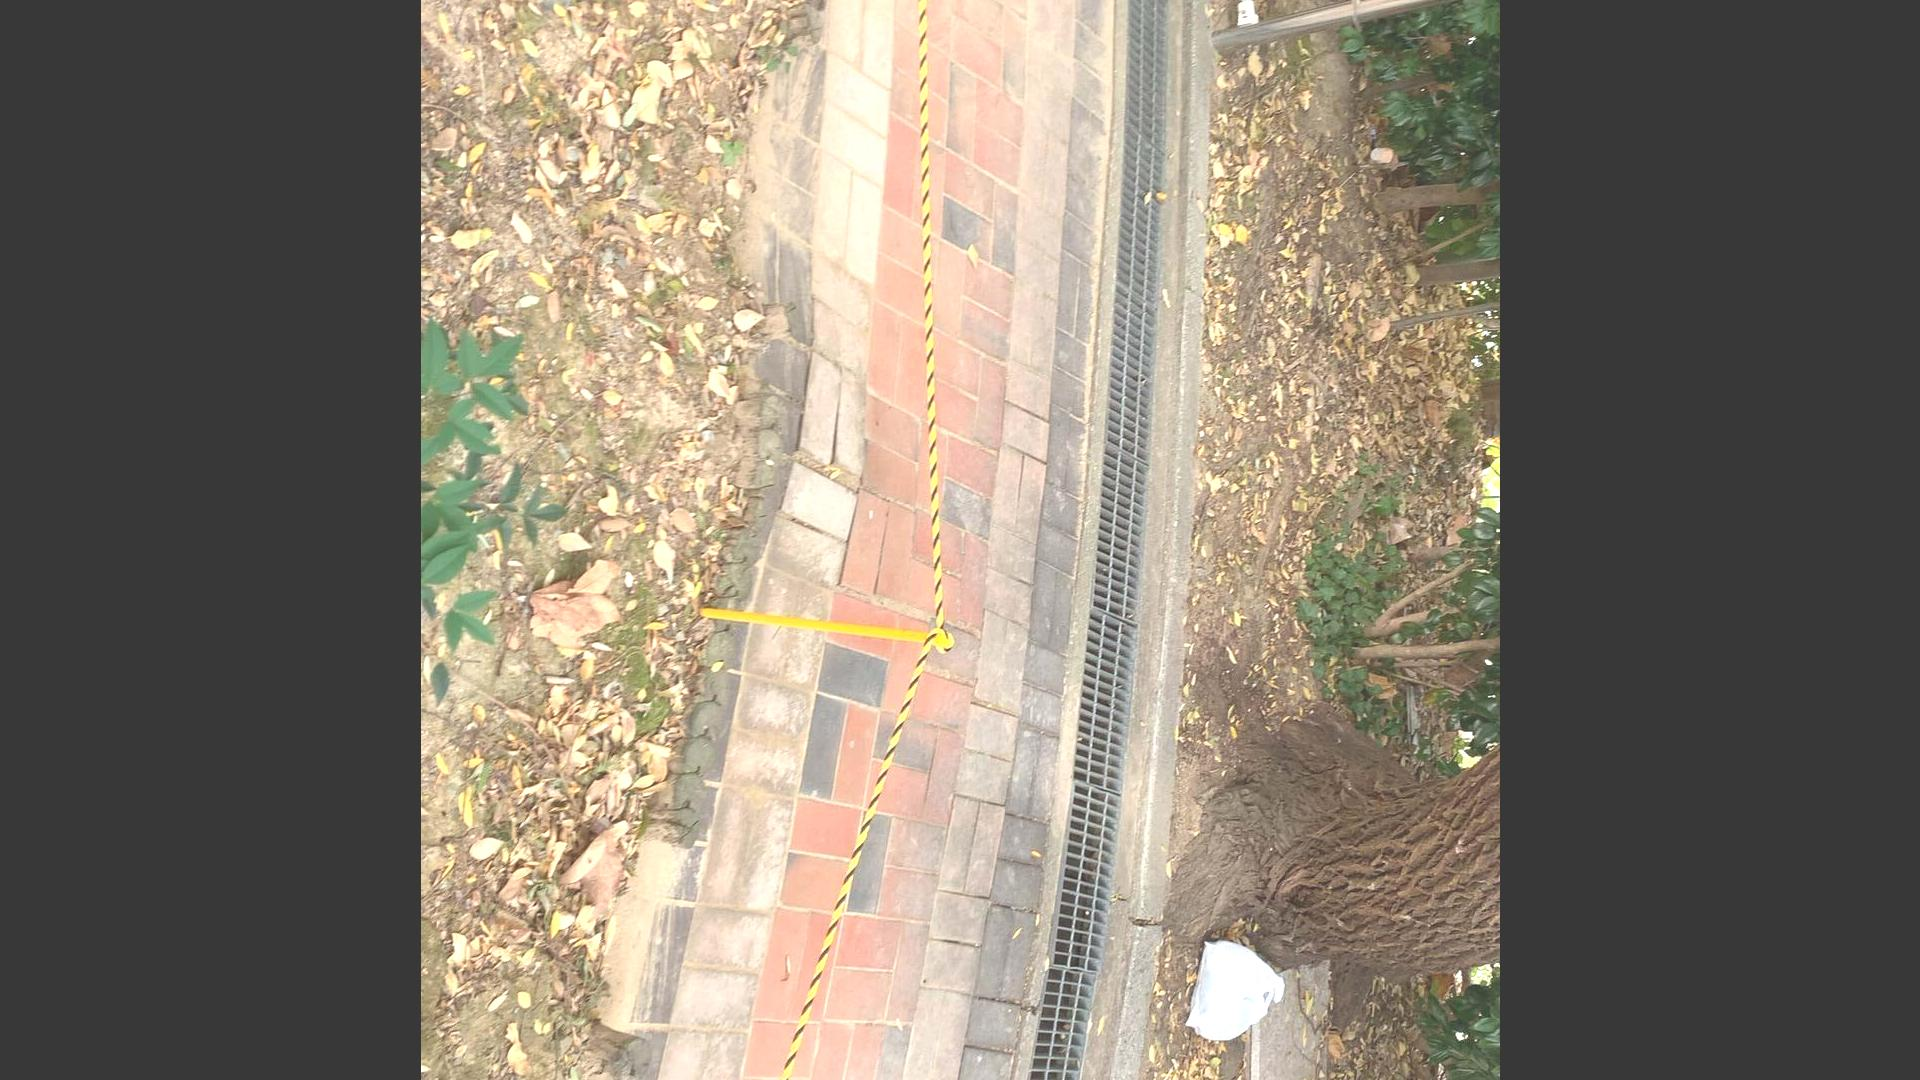white_bag: (1180, 928, 1287, 1048)
